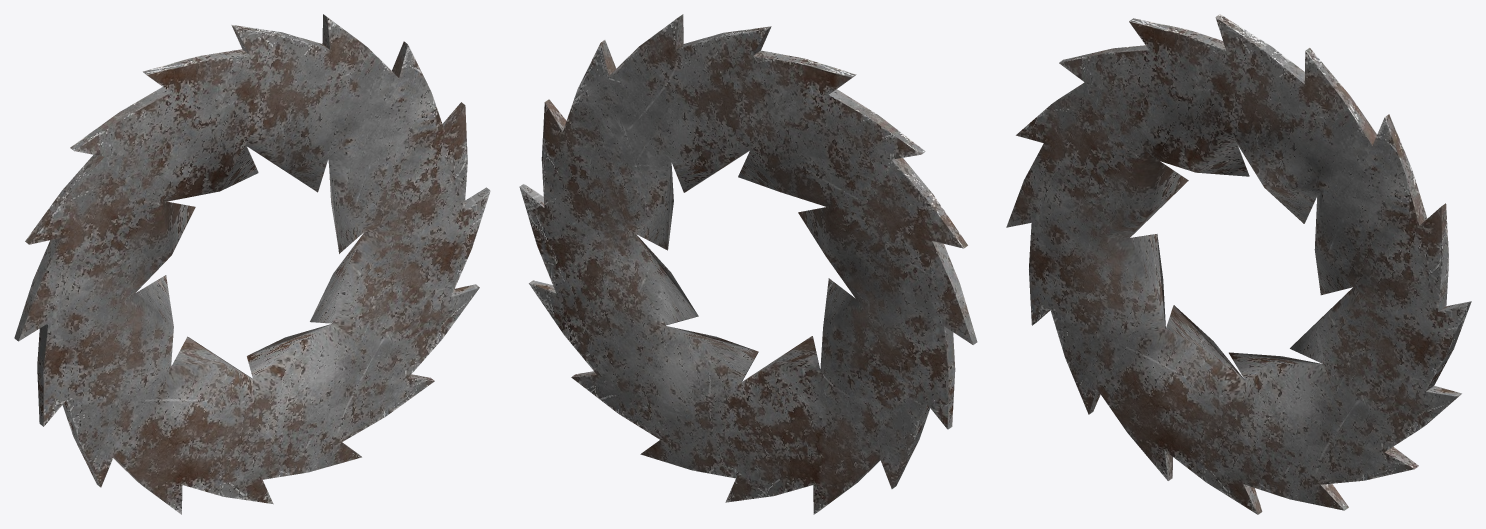
Rendered from saw floor.glb.
3 views of the same model, side by side, from view 1: azimuth 30°, elevation 25°; view 2: azimuth 150°, elevation 25°; view 3: azimuth 330°, elevation 25° (orthographic).
Visible parts, largest first — view 1: defaultMaterial.032; view 2: defaultMaterial.032; view 3: defaultMaterial.032.
Boxes of the visible parts, left/top/right/bottom form: defaultMaterial.032: left=14, top=14, right=490, bottom=514; defaultMaterial.032: left=519, top=14, right=977, bottom=514; defaultMaterial.032: left=1006, top=14, right=1471, bottom=514.
Size of the model in its own units: 2.06 by 2.06 by 0.1092.
1 material, 1 textured.
